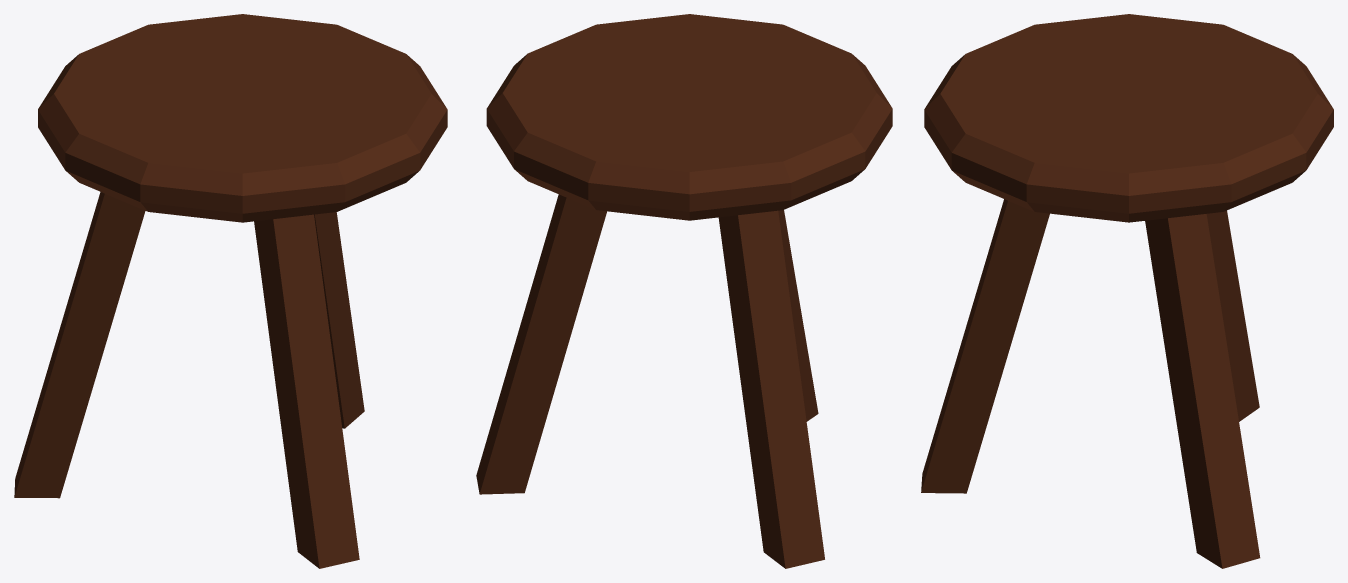
Rendered from 3er Hocker Var 1.fbx.
The picture shows the model from 3 angles, left to right: view 1: azimuth 30°, elevation 25°; view 2: azimuth 150°, elevation 25°; view 3: azimuth 270°, elevation 25°; orthographic projection.
Parts seen in each view (by area): view 1: 3er Hocker Var 1; view 2: 3er Hocker Var 1; view 3: 3er Hocker Var 1.
Boxes of the visible parts, left/top/right/bottom form: 3er Hocker Var 1: left=14, top=14, right=447, bottom=568; 3er Hocker Var 1: left=476, top=14, right=892, bottom=568; 3er Hocker Var 1: left=921, top=14, right=1333, bottom=568.
Bounding box in the file's own units: 61.41 × 64.07 × 61.
